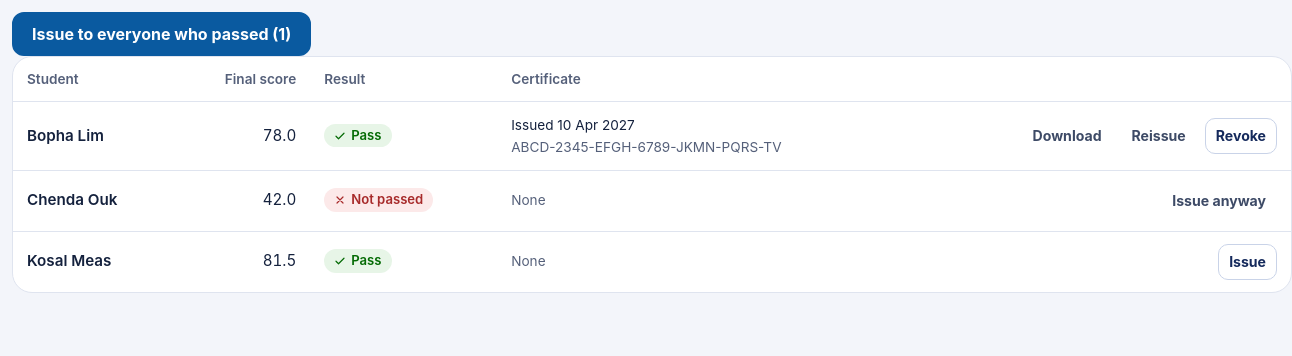
Scenario: CertificatesManager › issues to everyone who passed and has none yet
The image size is (1292, 356).
Click the button "Issue to everyone who passed (1)" at (162, 34), box [12,12,311,56]
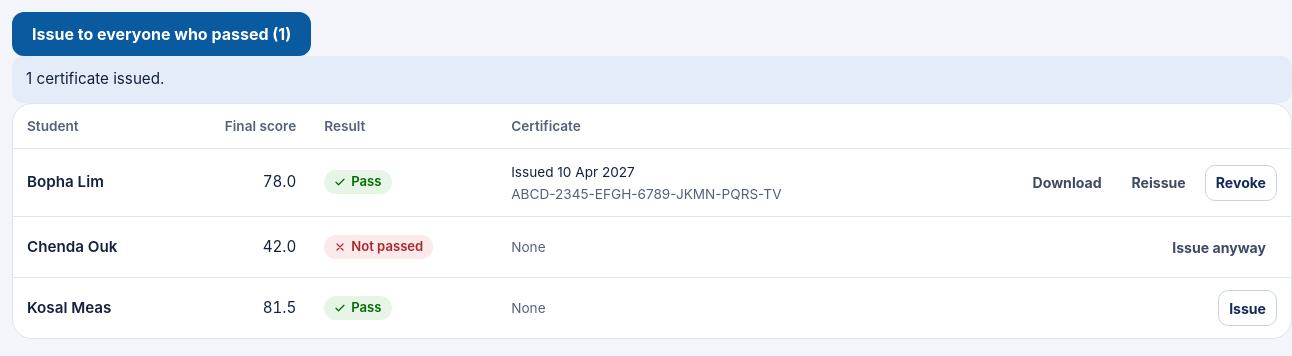
Result: the message reads "1 certificate issued." at [26,69,164,88]
